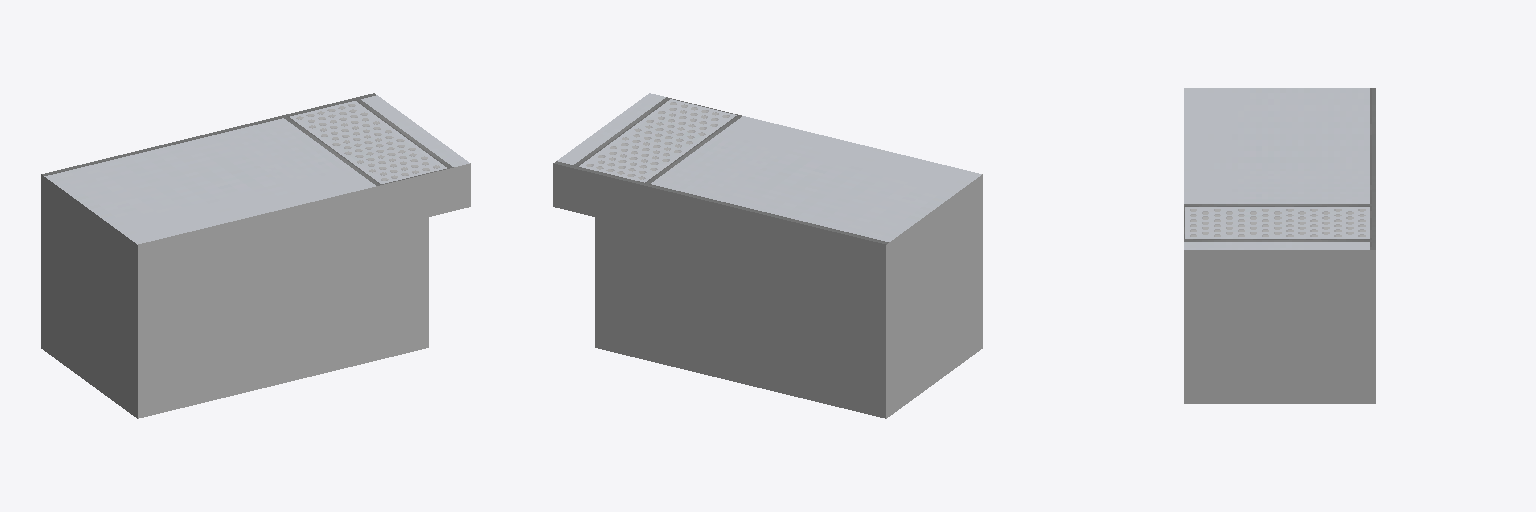
3 renders of one model, left to right at view 1: azimuth 30°, elevation 25°; view 2: azimuth 150°, elevation 25°; view 3: azimuth 270°, elevation 25°, orthographic.
Parts seen in each view (by area): view 1: cube; view 2: cube; view 3: cube.
Part boxes in pixels (x1,y1,x2,y2): cube: (41, 93, 470, 418); cube: (553, 93, 982, 418); cube: (1184, 88, 1375, 403).
Size of the model in its own units: 2 by 1 by 1.
3 materials, 1 textured.